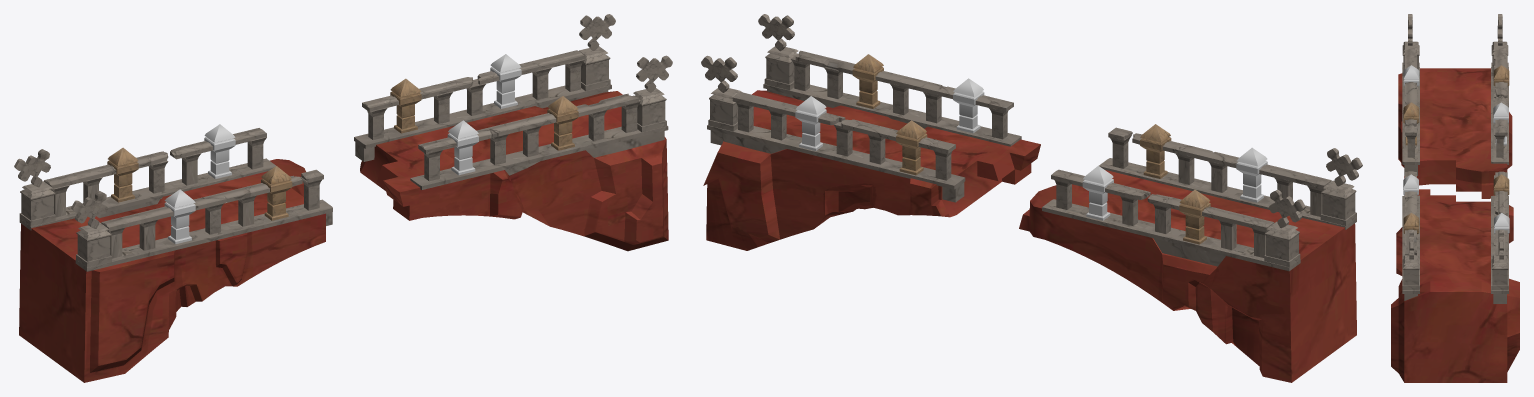
Rendered from dari_3.FBX.
3 renders of one model, left to right at view 1: azimuth 30°, elevation 25°; view 2: azimuth 150°, elevation 25°; view 3: azimuth 270°, elevation 25°, orthographic. The views are drawn at different scales.
Visible parts, largest first — view 1: Box001, Box017; view 2: Box001, Box017; view 3: Box001, Box017.
Part boxes in pixels (bbox=[...]): Box001: bbox=[19, 91, 668, 382]; Box017: bbox=[14, 14, 672, 271]; Box001: bbox=[703, 90, 1356, 382]; Box017: bbox=[701, 14, 1362, 271]; Box001: bbox=[1391, 68, 1519, 382]; Box017: bbox=[1402, 14, 1509, 303].
Size of the model in its own units: 564 by 166 by 133.
